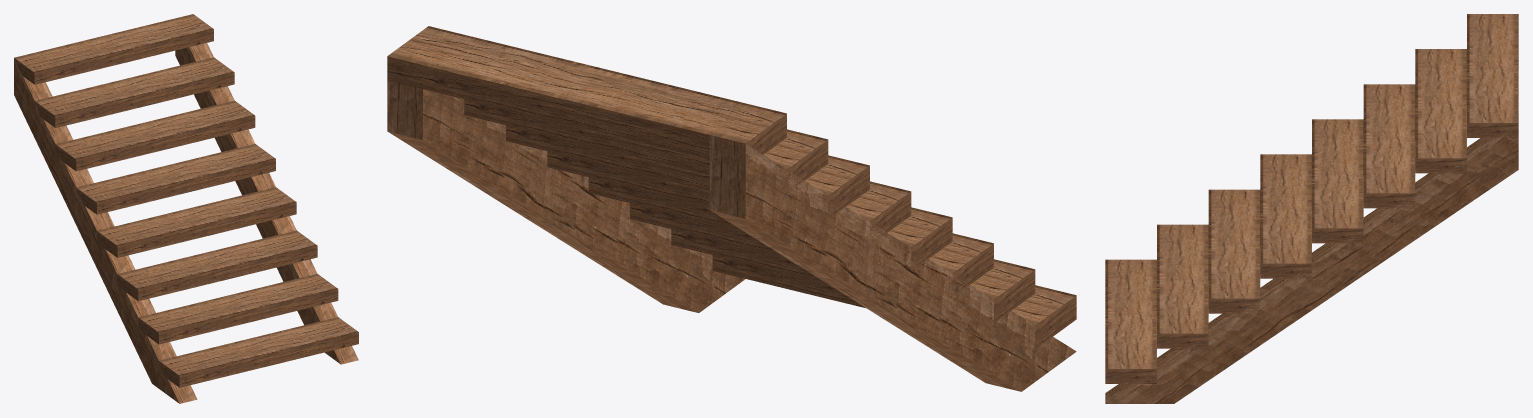
File: HalfStoryStair_1.25Wx1.5Hx2.0D.fbx
3 renders of one model, left to right at view 1: azimuth 30°, elevation 25°; view 2: azimuth 150°, elevation 25°; view 3: azimuth 270°, elevation 25°, orthographic. The views are drawn at different scales.
Parts seen in each view (by area): view 1: HalfFlightStair; view 2: HalfFlightStair; view 3: HalfFlightStair.
Part boxes in pixels (x1=…): HalfFlightStair: x1=14, y1=14, x2=358, y2=403; HalfFlightStair: x1=387, y1=26, x2=1076, y2=391; HalfFlightStair: x1=1105, y1=14, x2=1518, y2=403.
Size of the model in its own units: 1.25 by 1.5 by 2.
